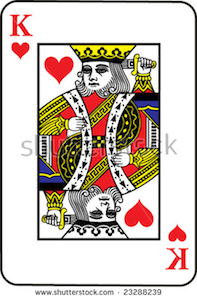KingOfHearts: (2, 1, 197, 287)
